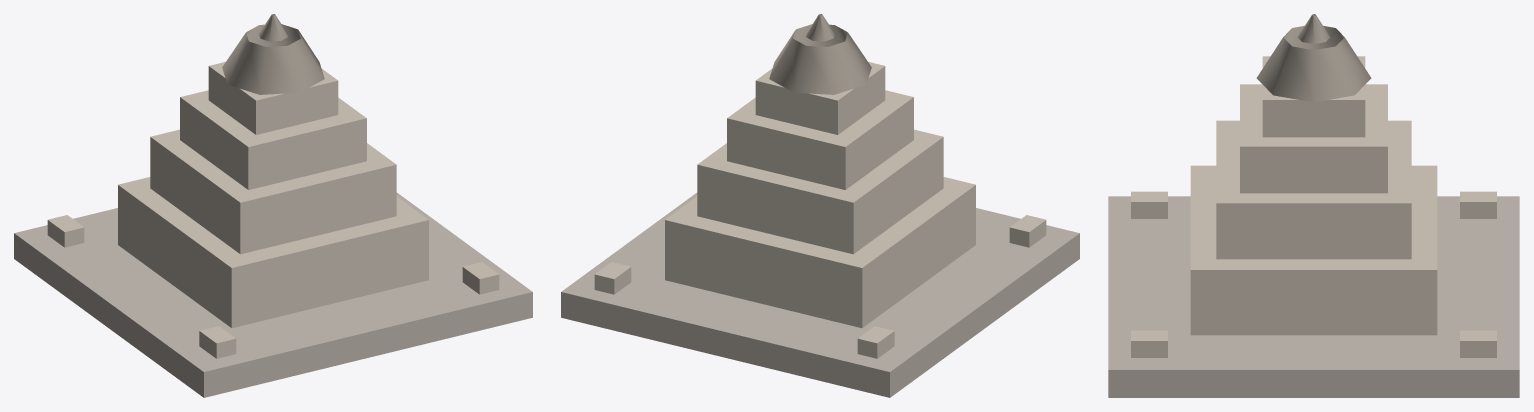
File: shore_temple.glb
3 renders of one model, left to right at view 1: azimuth 30°, elevation 25°; view 2: azimuth 150°, elevation 25°; view 3: azimuth 270°, elevation 25°, orthographic. The views are drawn at different scales.
Visible parts, largest first — view 1: BedrockBase_Node, Tier_1_Node, Tier_2_Node, Tier_3_Node, ShikharaCap_Node, Tier_4_Node, Nandi_2_Node, Nandi_3_Node, Nandi_0_Node, KalasaFinial_Node; view 2: BedrockBase_Node, Tier_1_Node, Tier_2_Node, Tier_3_Node, ShikharaCap_Node, Tier_4_Node, Nandi_0_Node, Nandi_1_Node, Nandi_2_Node, KalasaFinial_Node; view 3: BedrockBase_Node, Tier_1_Node, Tier_2_Node, Tier_3_Node, ShikharaCap_Node, Tier_4_Node, Nandi_0_Node, Nandi_1_Node, Nandi_2_Node, Nandi_3_Node, KalasaFinial_Node.
Part boxes in pixels (x1,y1,x2,y2): BedrockBase_Node: [14, 192, 532, 397]; Tier_1_Node: [118, 177, 428, 328]; Tier_2_Node: [150, 129, 396, 254]; Tier_3_Node: [180, 90, 366, 189]; ShikharaCap_Node: [222, 24, 324, 94]; Tier_4_Node: [208, 61, 338, 134]; Nandi_2_Node: [199, 326, 236, 358]; Nandi_3_Node: [462, 262, 499, 294]; Nandi_0_Node: [47, 215, 84, 247]; KalasaFinial_Node: [259, 14, 287, 41]; BedrockBase_Node: [561, 192, 1079, 397]; Tier_1_Node: [665, 177, 975, 328]; Tier_2_Node: [697, 129, 943, 254]; Tier_3_Node: [727, 90, 913, 189]; ShikharaCap_Node: [769, 24, 871, 94]; Tier_4_Node: [755, 61, 885, 134]; Nandi_0_Node: [857, 326, 894, 358]; Nandi_1_Node: [594, 262, 631, 294]; Nandi_2_Node: [1009, 215, 1046, 247]; KalasaFinial_Node: [806, 14, 834, 41]; BedrockBase_Node: [1108, 196, 1519, 397]; Tier_1_Node: [1190, 165, 1437, 335]; Tier_2_Node: [1216, 120, 1411, 259]; Tier_3_Node: [1240, 84, 1387, 193]; ShikharaCap_Node: [1256, 26, 1371, 102]; Tier_4_Node: [1262, 56, 1365, 137]; Nandi_0_Node: [1460, 191, 1496, 218]; Nandi_1_Node: [1460, 330, 1496, 357]; Nandi_2_Node: [1131, 191, 1167, 218]; Nandi_3_Node: [1131, 330, 1167, 357]; KalasaFinial_Node: [1297, 14, 1330, 43].
Size of the model in its own units: 20 by 15.9 by 20.
